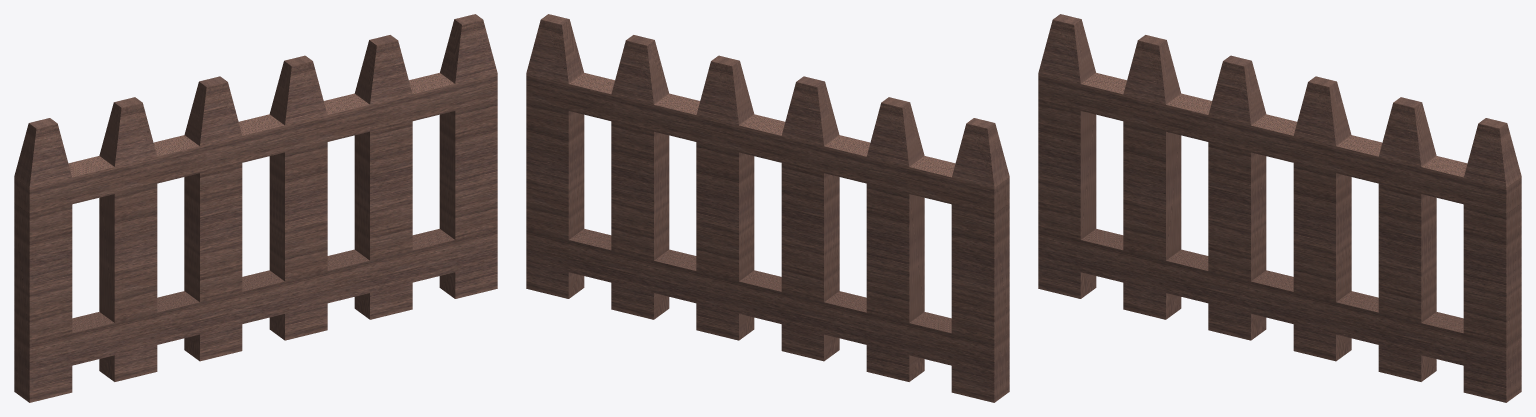
Rendered from saku.fbx.
The picture shows the model from 3 angles, left to right: view 1: azimuth 30°, elevation 25°; view 2: azimuth 150°, elevation 25°; view 3: azimuth 330°, elevation 25°; orthographic projection.
Parts seen in each view (by area): view 1: 立方体; view 2: 立方体; view 3: 立方体.
Part boxes in pixels (x1,y1,x2,y2): 立方体: (14, 14, 497, 402); 立方体: (526, 14, 1009, 402); 立方体: (1038, 14, 1521, 402).
Size of the model in its own units: 12.93 by 7.1 by 0.7366.
Materials: 1 (1 with a texture image).
